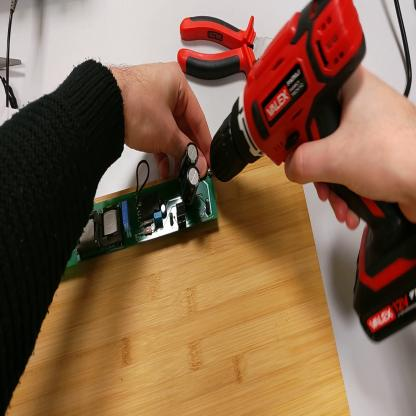electric screwdriver: (212, 1, 416, 349)
hand: (285, 61, 415, 226), (117, 60, 216, 187)
high voltage board: (67, 144, 220, 267)
oscilloscope probe tip: (1, 54, 24, 66)
pliers: (174, 17, 278, 83)
working area: (1, 157, 351, 416)
